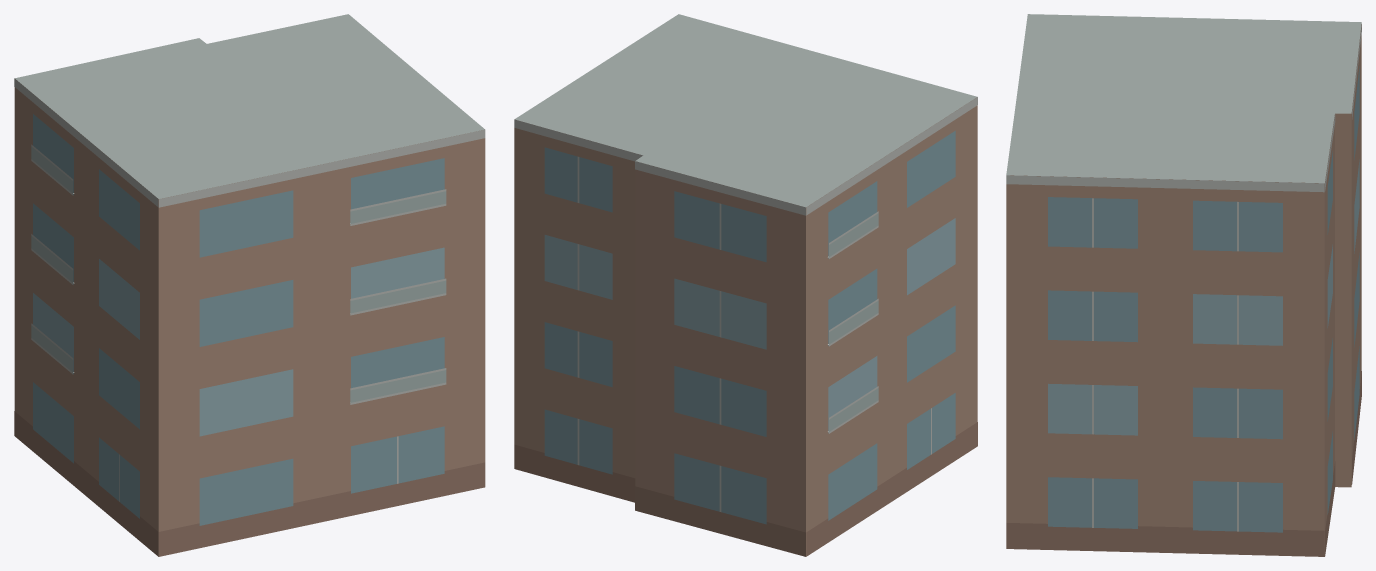
File: survey-upis-32465816.glb
3 renders of one model, left to right at view 1: azimuth 30°, elevation 25°; view 2: azimuth 150°, elevation 25°; view 3: azimuth 270°, elevation 25°, orthographic. The views are drawn at different scales.
Visible parts, largest first — view 1: survey-upis-32465816.tmp; view 2: survey-upis-32465816.tmp; view 3: survey-upis-32465816.tmp.
Boxes of the visible parts, x1=… form: survey-upis-32465816.tmp: x1=14, y1=14, x2=485, y2=556; survey-upis-32465816.tmp: x1=514, y1=14, x2=977, y2=556; survey-upis-32465816.tmp: x1=1006, y1=14, x2=1361, y2=556.
Size of the model in its own units: 9.92 by 10.2 by 8.81.
